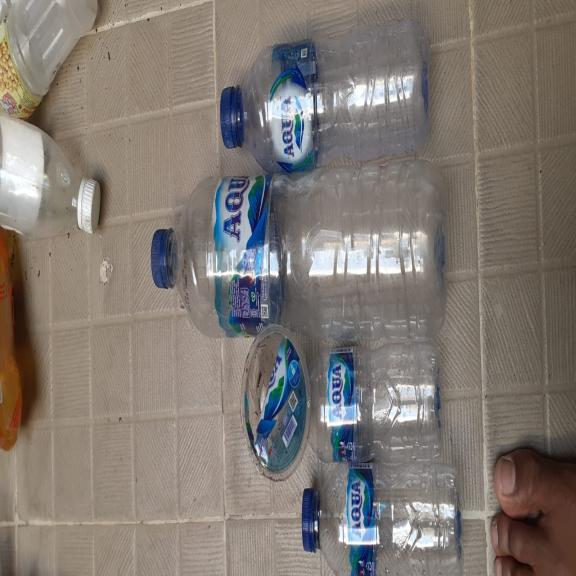Plastik: (150, 162, 446, 340), (221, 20, 430, 159), (302, 462, 462, 576), (307, 344, 445, 468), (0, 111, 101, 235), (240, 324, 311, 483), (0, 0, 98, 115), (0, 232, 24, 458)
